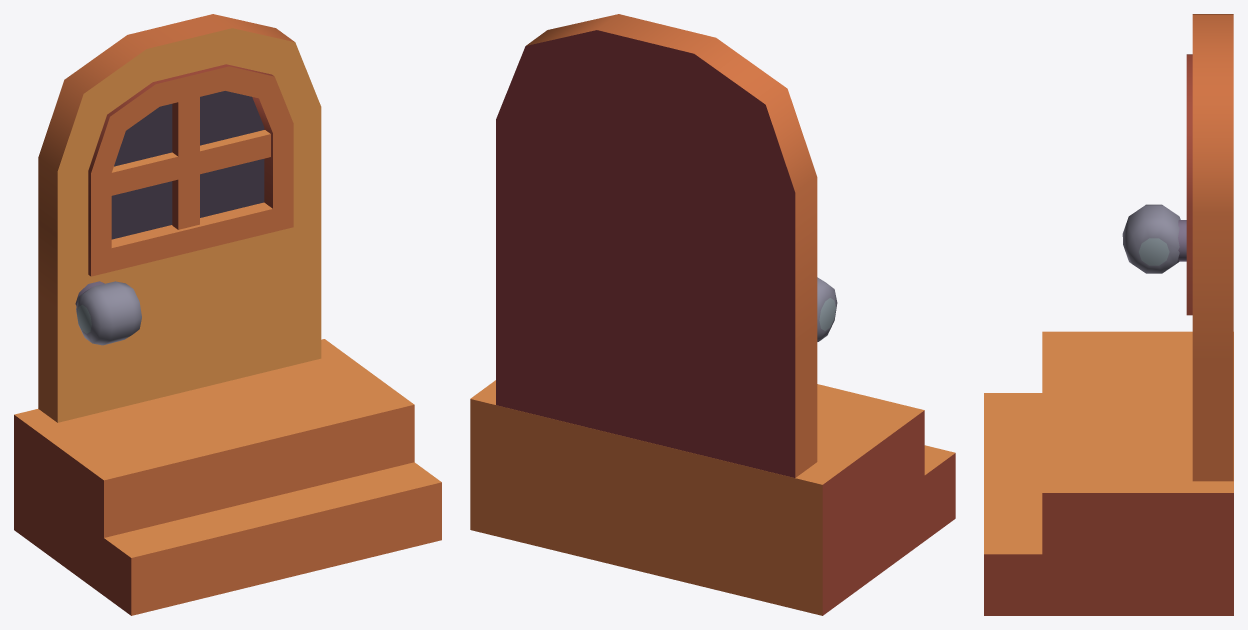
The model's file is Door01_Orange_Wood.glb.
3 views of the same model, side by side, from view 1: azimuth 30°, elevation 25°; view 2: azimuth 150°, elevation 25°; view 3: azimuth 270°, elevation 25° (orthographic). The views are drawn at different scales.
Parts seen in each view (by area): view 1: Door01_Orange_Wood; view 2: Door01_Orange_Wood; view 3: Door01_Orange_Wood.
Part boxes in pixels (box(x1,y1,x2,y2)): Door01_Orange_Wood: box(14, 14, 441, 615); Door01_Orange_Wood: box(470, 14, 955, 615); Door01_Orange_Wood: box(984, 14, 1233, 615).
Size of the model in its own units: 0.9795 by 1.41 by 0.6407.
Materials: 1 (1 with a texture image).
